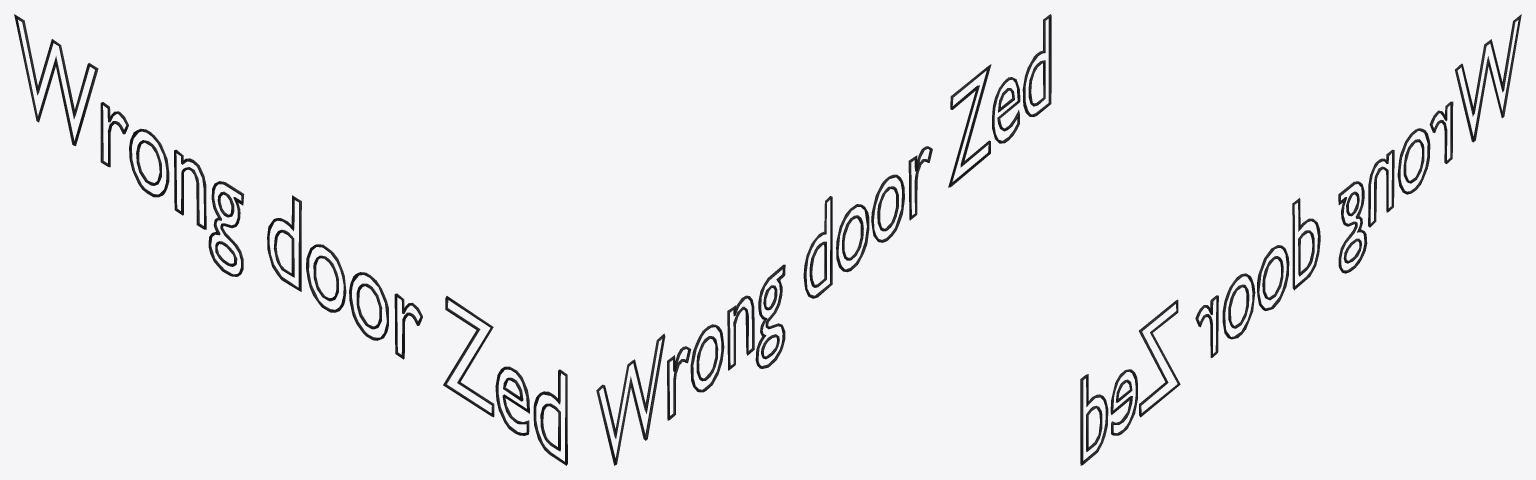
Rendered from orbs-oc4.glb.
3 renders of one model, left to right at view 1: azimuth 30°, elevation 25°; view 2: azimuth 150°, elevation 25°; view 3: azimuth 330°, elevation 25°, orthographic. The views are drawn at different scales.
Parts seen in each view (by area): view 1: Text.003; view 2: Text.003; view 3: Text.003.
Part boxes in pixels (x1,y1,x2,y2): Text.003: (14,14,567,465); Text.003: (596,14,1051,465); Text.003: (1080,14,1521,465).
Bounding box in the file's own units: 0.1428 × 0.3445 × 2.62.
Materials: 1 (1 with a texture image).
